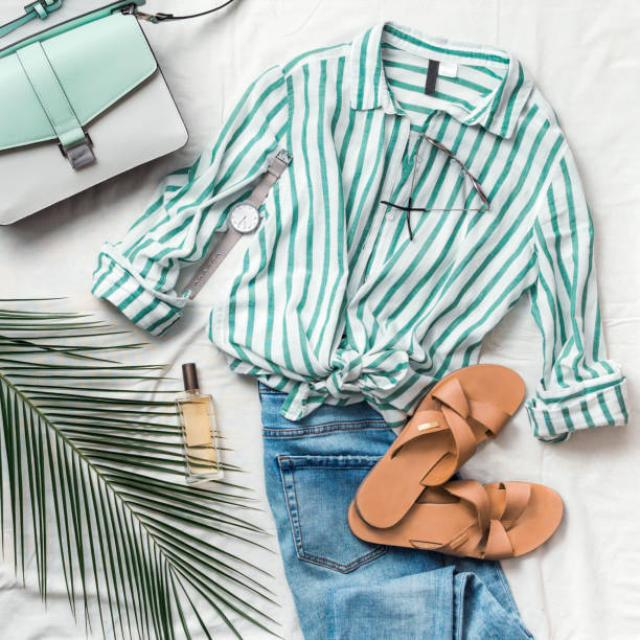top: (212, 26, 544, 360)
